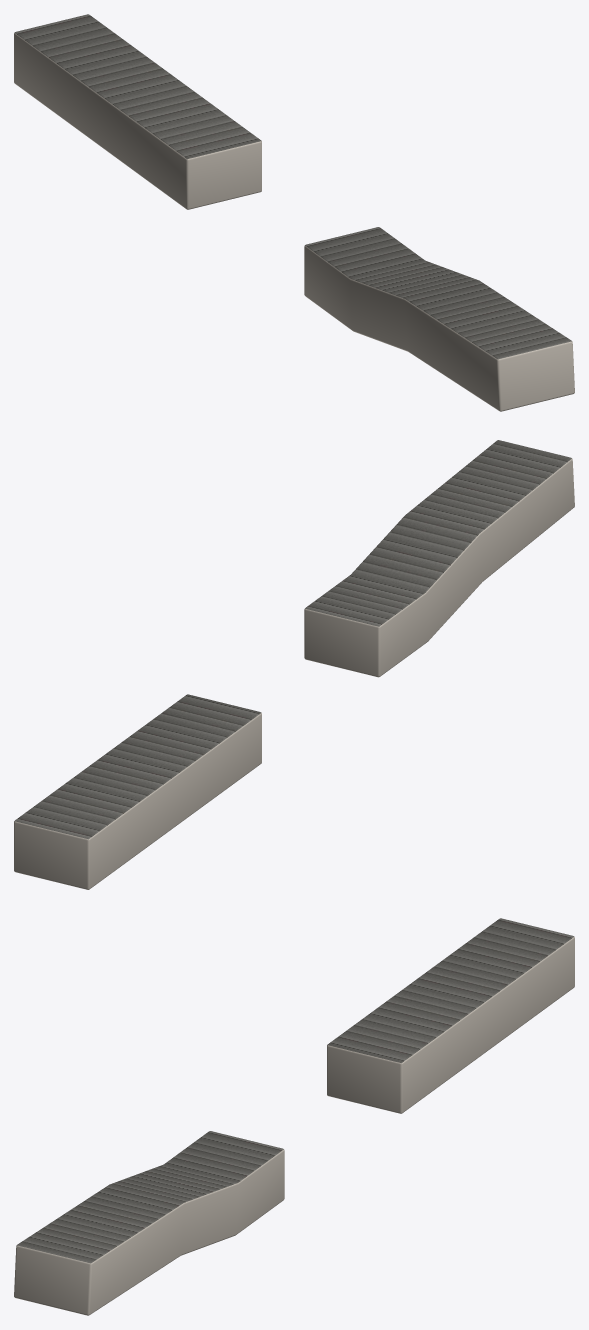
Rendered from Conveyor01.fbx.
3 views of the same model, one above another, from view 1: azimuth 30°, elevation 25°; view 2: azimuth 150°, elevation 25°; view 3: azimuth 330°, elevation 25° (orthographic).
Visible parts, largest first — view 1: Conveyor01; view 2: Conveyor01; view 3: Conveyor01.
Boxes of the visible parts, x1,y1,x2,y2 form: Conveyor01: (14, 14, 574, 411); Conveyor01: (14, 440, 574, 889); Conveyor01: (14, 918, 574, 1315).
Bounding box in the file's own units: 4000 × 3980 × 44492.
